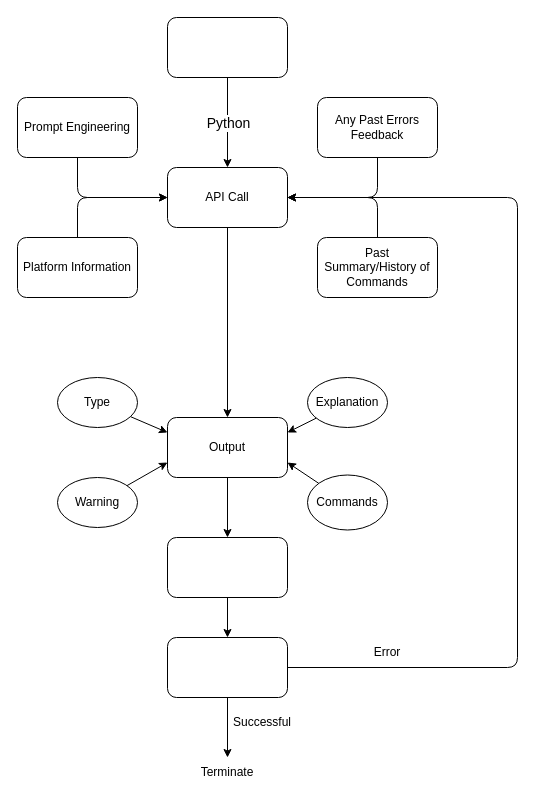
Image size: 543x805. Some labels were removed from this diagram. The shapes that lost their labels are listed below. From the top down, each one's centre as x and y in pixels, then its label:
At [227,47]: "AI Pipeline Component".
At [227,567]: "AI Parser".
At [227,667]: "Executor".
